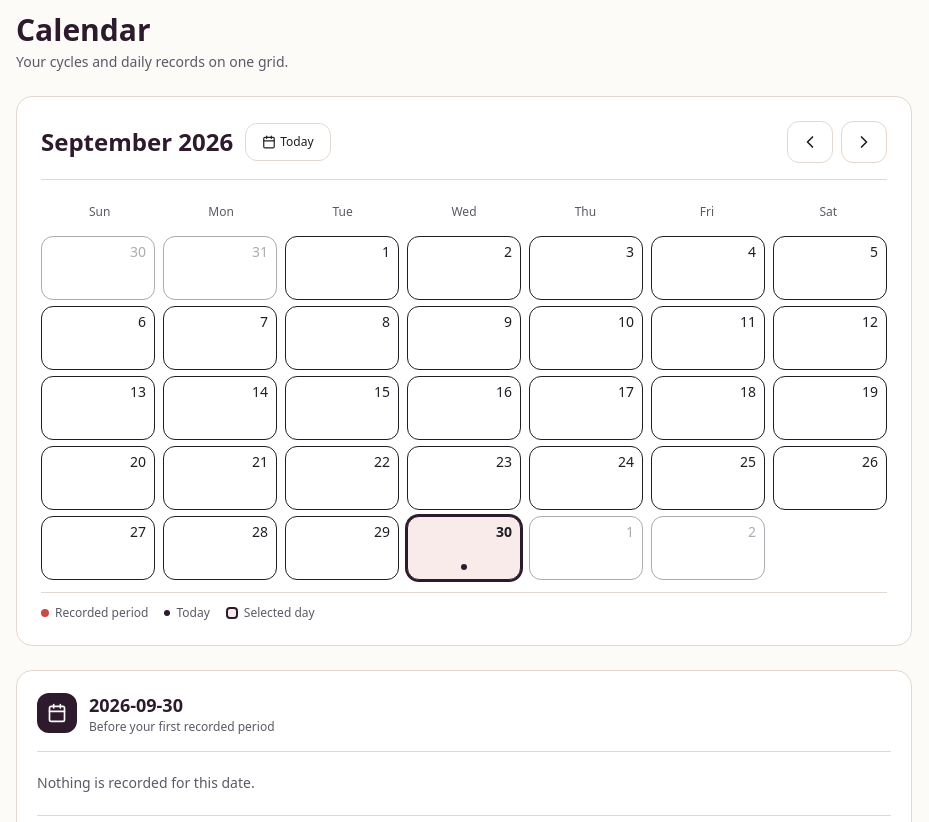
Test: CalendarView UI › shows a recorded daily log for the selected day
Step 1. Click the cell "29" → coordinates (342, 548), box top-left (285, 516), bottom-right (399, 580)
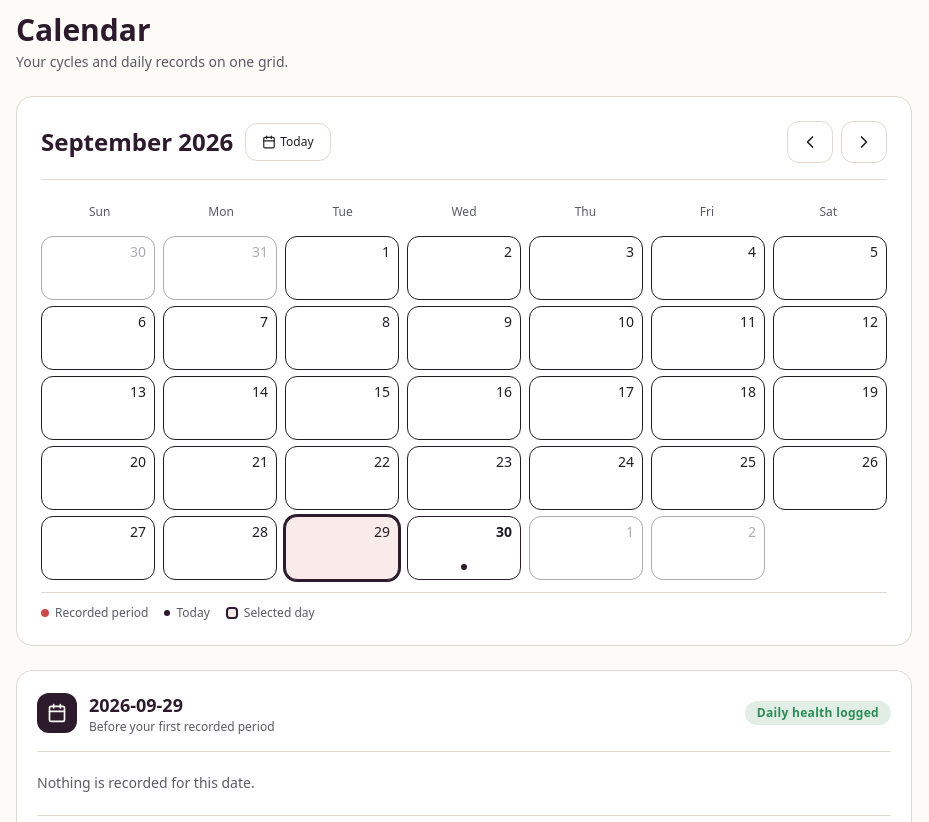
Check: the text "Daily health logged" is shown, box top-left (745, 701), bottom-right (891, 725)
